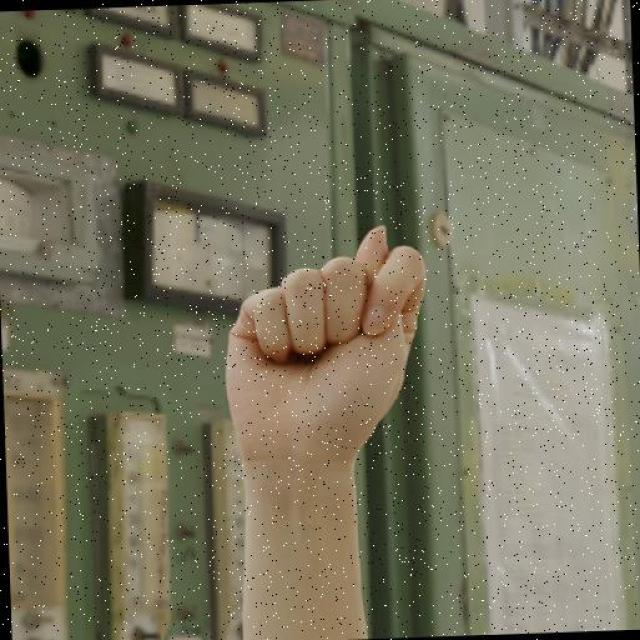T: (213, 216, 438, 474)
